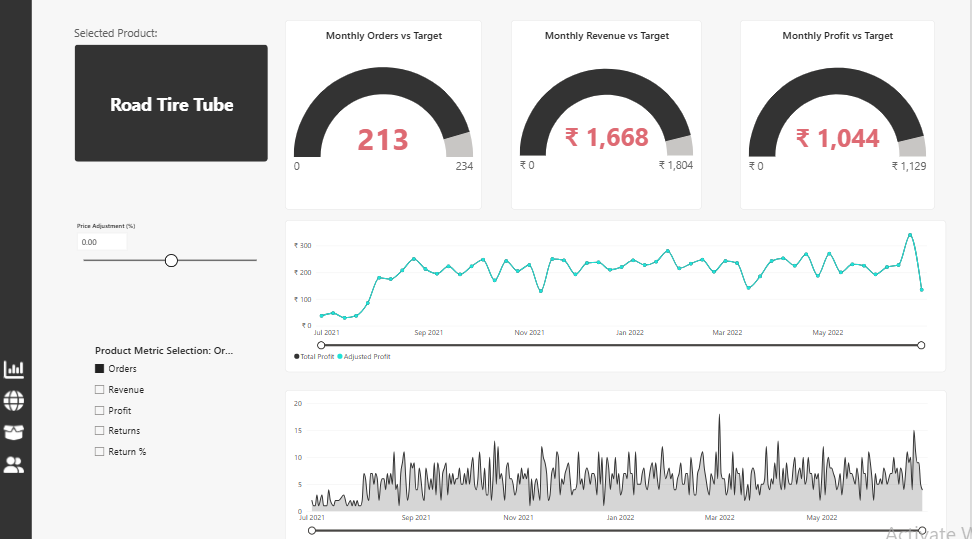

This screenshot's page, from the dashboard's own definition file:
{"tool":"powerbi","page":{"name":"Product Detail","canvas":[1920,1080],"ordinal":2},"visuals":[{"type":"shape","box":[0,0,72.5,1080],"z":0},{"type":"actionButton","box":[0,771.7,73.3,61.7],"z":0,"group":"g1"},{"type":"gauge","title":"Monthly Orders vs Target","fields":{"MaxValue":["Measure Table.Order Target"],"Y":["Measure Table.Total Orders"]},"box":[572,52,388,374],"z":1000},{"type":"actionButton","box":[0,833.3,73.3,61.7],"z":1000,"group":"g1"},{"type":"gauge","title":"Monthly Revenue vs Target","fields":{"MaxValue":["Measure Table.Revenue Target"],"Y":["Measure Table.Total Revenue"]},"box":[1016,52,376,374],"z":2000},{"type":"actionButton","box":[0,895,73.3,65],"z":2000,"group":"g1"},{"type":"gauge","title":"Monthly Profit vs Target","fields":{"MaxValue":["Measure Table.Profit Target"],"Y":["Measure Table.Total Profit"]},"box":[1468,52,384,374],"z":3000},{"type":"actionButton","box":[0,710,73.3,61.7],"z":3000,"group":"g1"},{"type":"lineChart","title":"Profit Trending","fields":{"Category":["Calendar Lookup.Date Hierarchy.Start of Year","Calendar Lookup.Date Hierarchy.Start of Month","Calendar Lookup.Date Hierarchy.Start of Week","Calendar Lookup.Date Hierarchy.Date"],"Y":["Measure Table.Total Profit","Measure Table.Adjusted Profit"]},"box":[571.5,445.4,1302.7,299.6],"z":4000},{"type":"areaChart","title":"Return Trending","fields":{"Category":["Calendar Lookup.Date Hierarchy.Start of Year","Calendar Lookup.Date Hierarchy.Start of Month","Calendar Lookup.Date Hierarchy.Start of Week","Calendar Lookup.Date Hierarchy.Date"],"Y":["Measure Table.Total Orders"]},"box":[572,780,1304,300],"z":5000},{"type":"cardVisual","fields":{"Data":["Min(Product Lookup.ProductName)"]},"box":[156.3,98.5,383.1,233.3],"z":6000},{"type":"textbox","box":[156.3,62.1,248.3,36.4],"z":7000},{"type":"textbox","box":[156.3,62.1,241.9,53.5],"z":8000},{"type":"group","id":"g1","title":"Navigation button","box":[0,710,73.3,250],"z":9000},{"type":"slicer","fields":{"Values":["Price Adjustment (%).Price Adjustment (%)"]},"box":[153.3,446.7,380,96.7],"z":9001},{"type":"slicer","fields":{"Values":["Product Metric Selection.Product Metric Selection"]},"box":[190,688,306,350],"z":9002}]}

Visuals, with their boxes on the page's 1920x1080 design canvas (x1, y1, x2, y2). These are canvas units, not pixel positions in the 972x539 screenshot, which may show the page scaled, cropped or inside an application window:
shape: 0,0,72,1080
actionButton: 0,772,73,833
"Monthly Orders vs Target" gauge: 572,52,960,426
actionButton: 0,833,73,895
"Monthly Revenue vs Target" gauge: 1016,52,1392,426
actionButton: 0,895,73,960
"Monthly Profit vs Target" gauge: 1468,52,1852,426
actionButton: 0,710,73,772
"Profit Trending" lineChart: 572,445,1874,745
"Return Trending" areaChart: 572,780,1876,1080
cardVisual - Min(Product Lookup.ProductName): 156,98,539,332
textbox: 156,62,405,98
textbox: 156,62,398,116
"Navigation button" group: 0,710,73,960
slicer - Price Adjustment (%).Price Adjustment (%): 153,447,533,543
slicer - Product Metric Selection.Product Metric Selection: 190,688,496,1038
